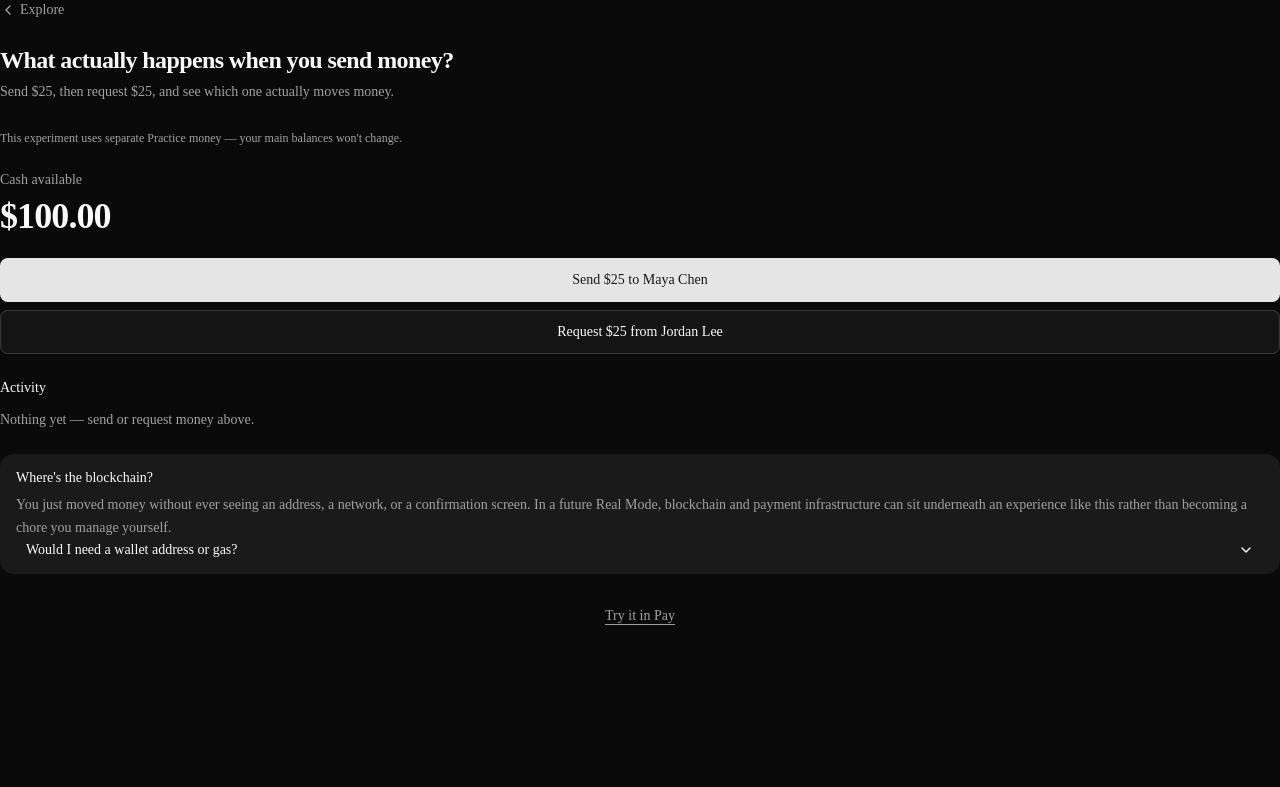
Test: PaymentsExperiment › send and request are each one-shot per fixture
The width and height of the screenshot is (1280, 787).
Click the button "Send $25 to Maya Chen" at (640, 280), box [0,258,1279,302]
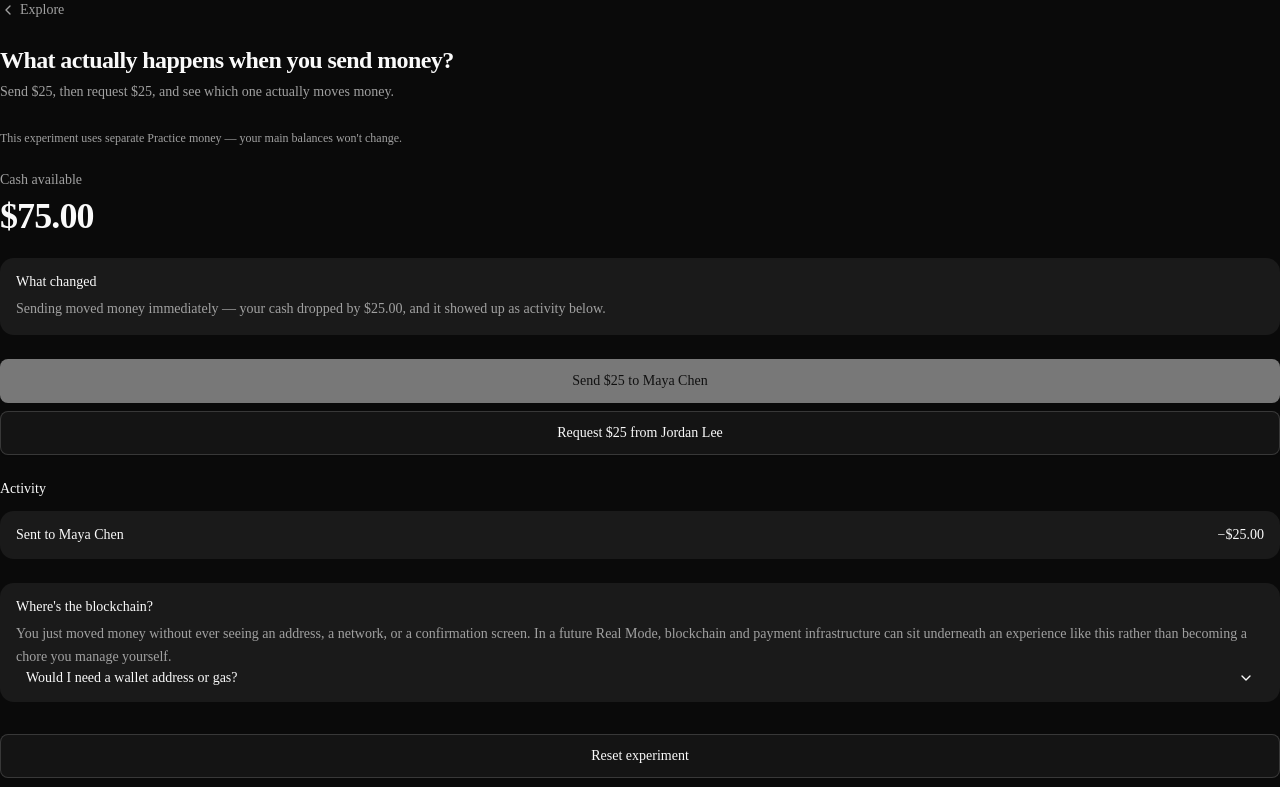
Expected: the button "Send $25 to Maya Chen" is disabled, [0,359,1279,403]
Click the button "Request $25 from Jordan Lee" at (640, 433), box [0,411,1279,455]
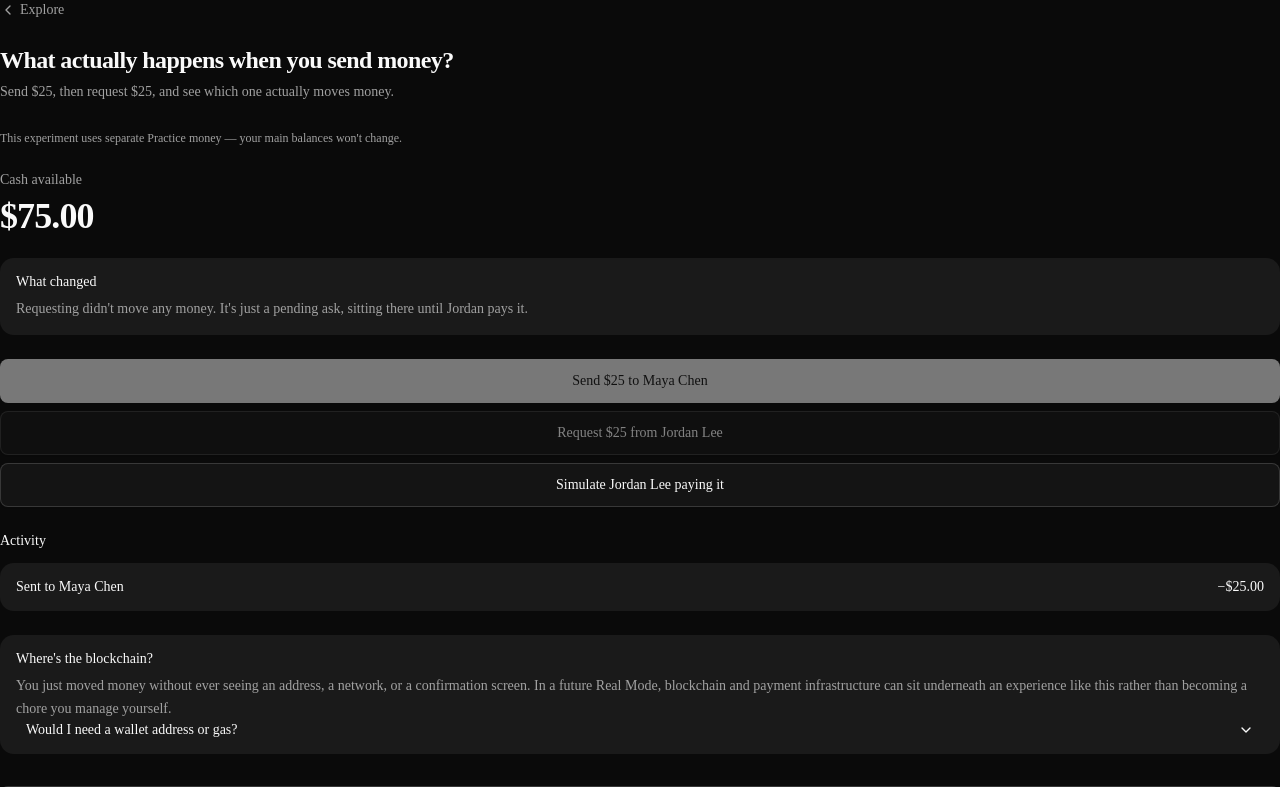
Expected: the button "Request $25 from Jordan Lee" is disabled, [0,411,1279,455]
